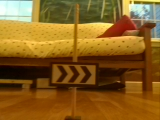right: (50, 63, 99, 86)
